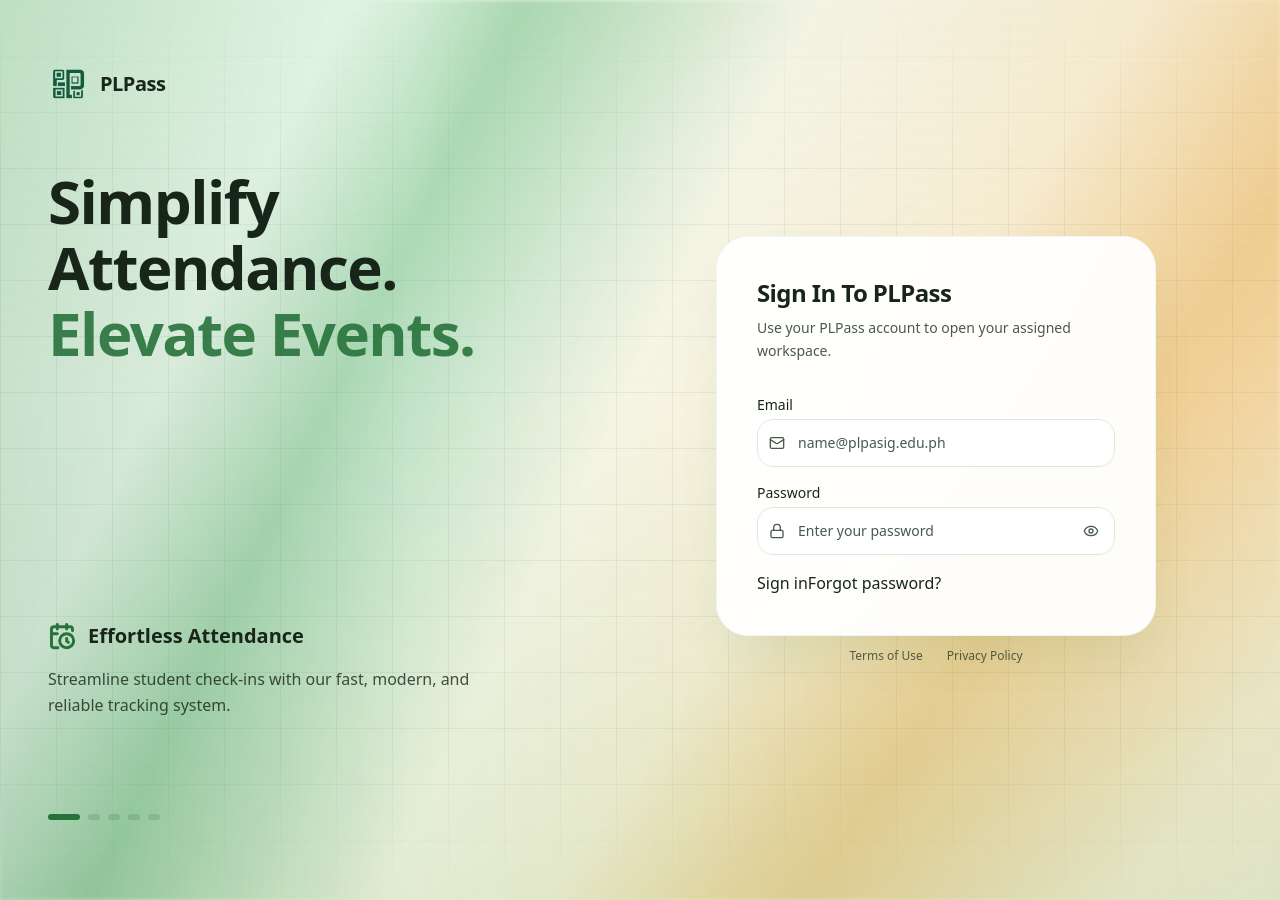
Test case: student web deployment › rejects staff accounts at student-web sign-in
The image size is (1280, 900).
Type "organizer.one@plpass.test" into the field labelled "Email".
click(936, 443); type("organizer.one@plpass.test")  # box [757,419,1115,467]
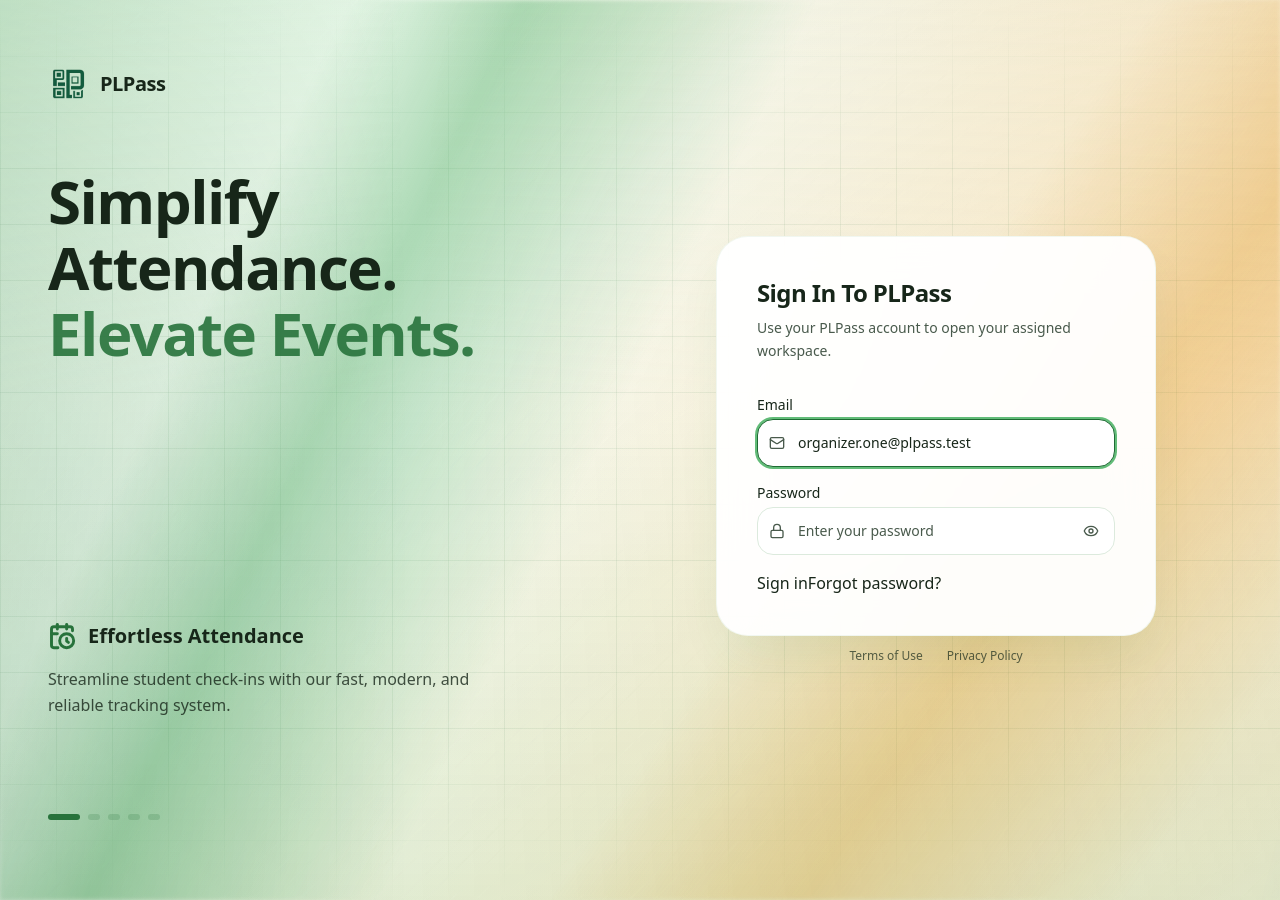
Type "password123" into the password field labelled "Password".
click(936, 531); type("password123")  # box [757,507,1115,555]
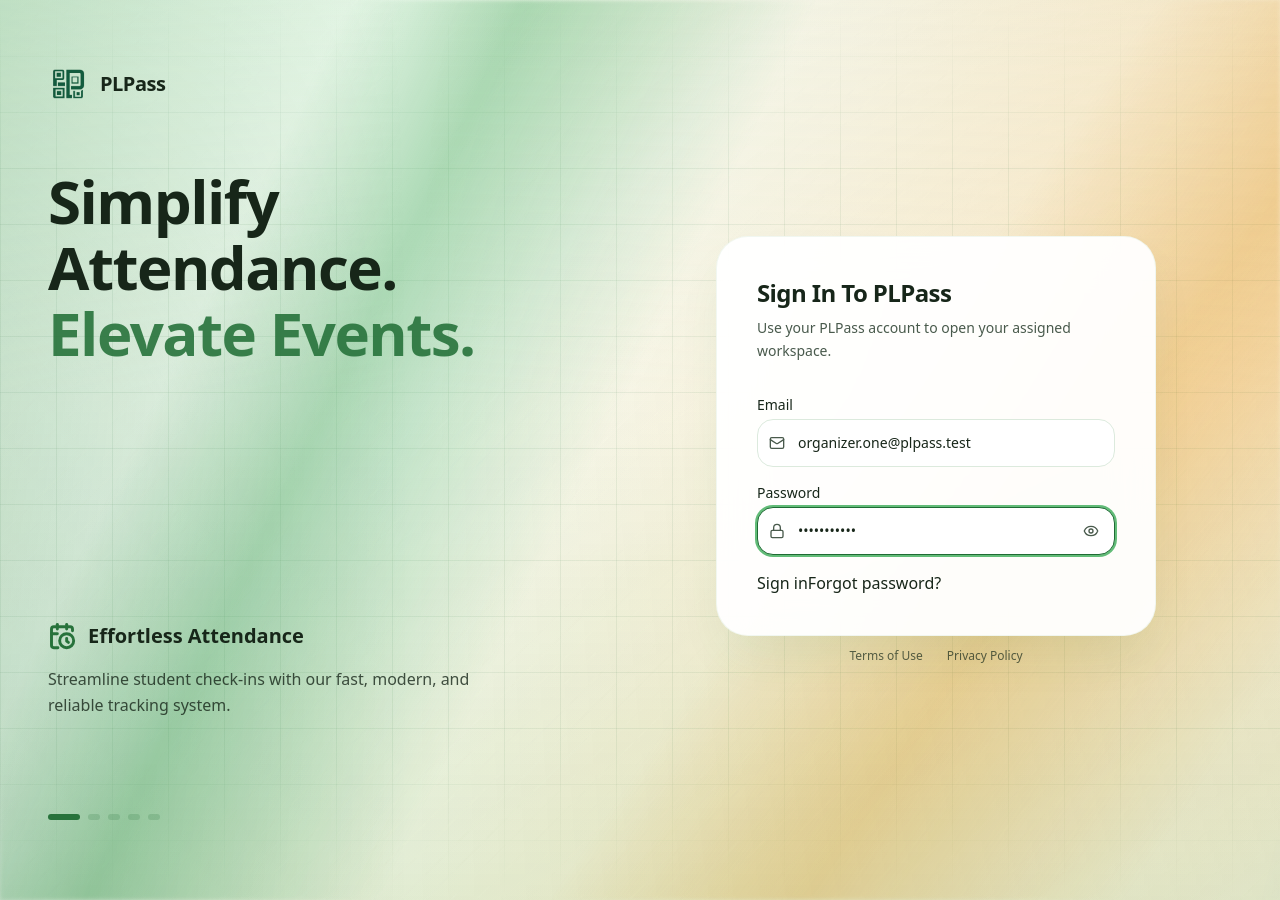
Click the button "Sign in".
click(782, 583)  # box [757,571,808,595]
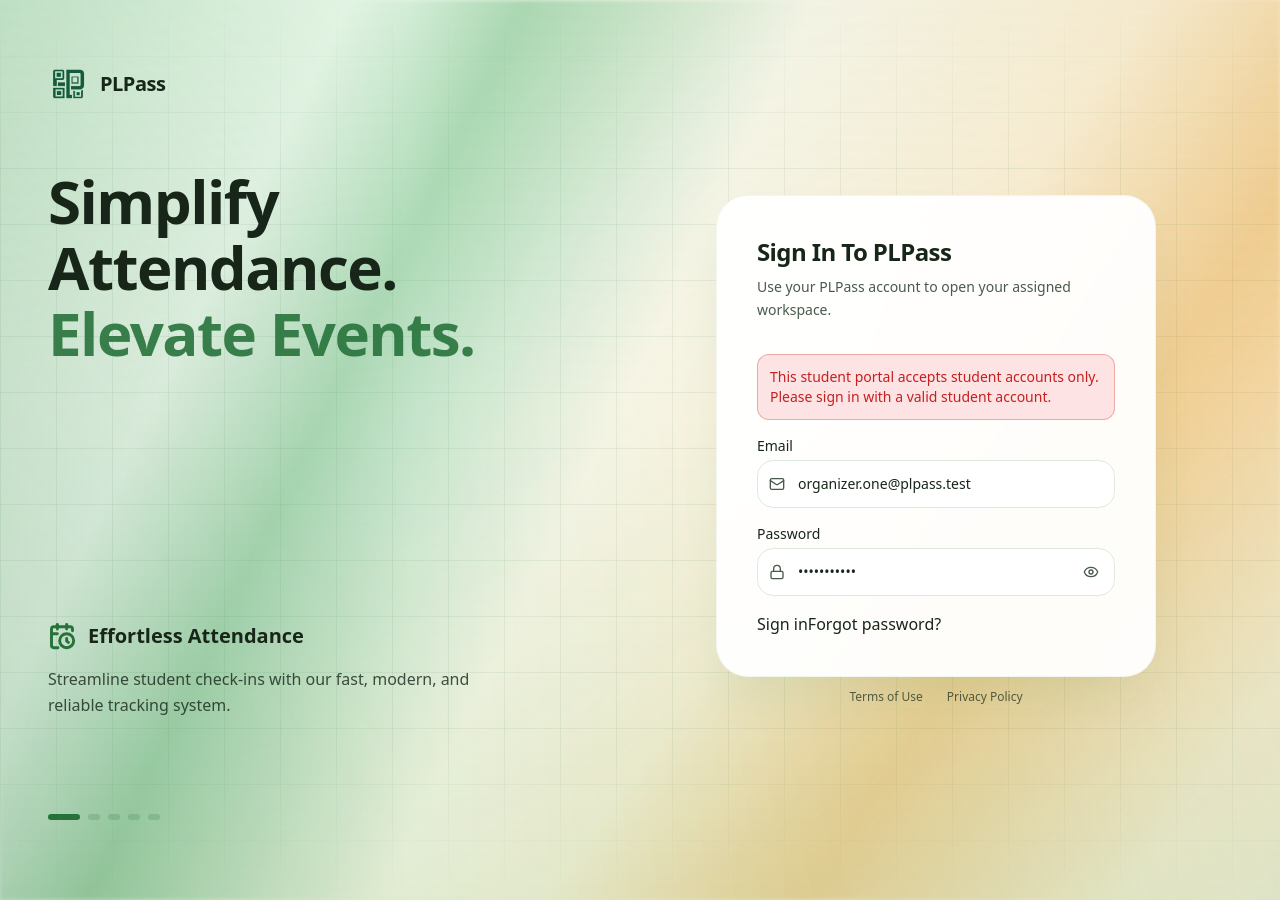
Expected: the message shows "student portal accepts student accounts only", [770,367,1099,406]
